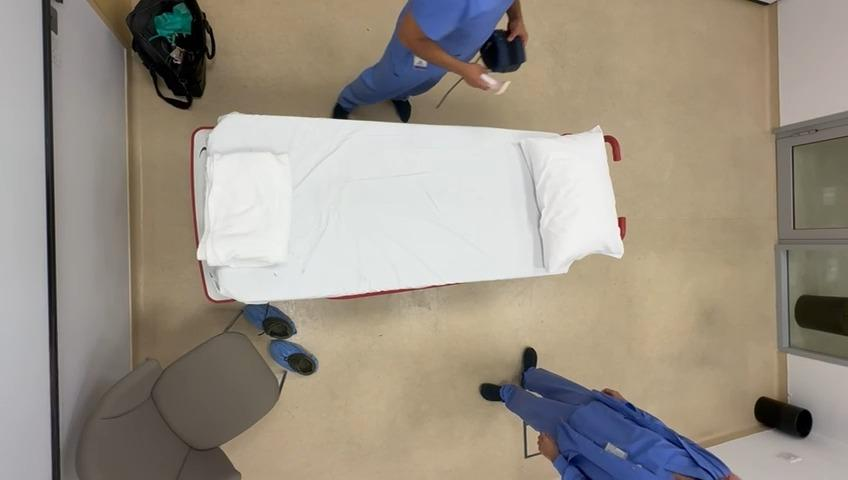bed: (192, 116, 626, 302)
prepstick: (480, 73, 510, 94)
tourniquet: (480, 30, 527, 72)
